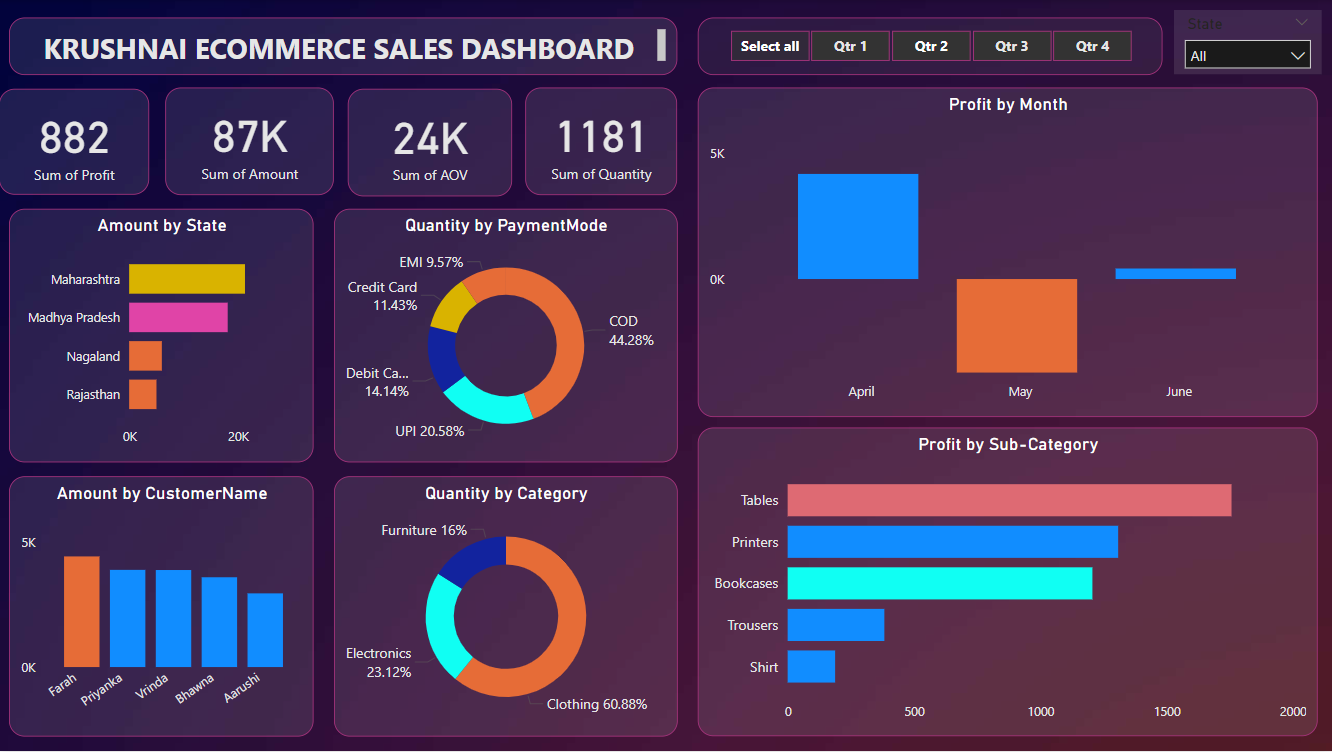

Layout of this report page (visuals, bound fields, positions):
{"tool":"powerbi","page":{"name":"Sales Dashboard","canvas":[1280,720],"ordinal":0},"visuals":[{"type":"textbox","box":[9.6,16.5,640.8,54.9],"z":0},{"type":"columnChart","title":"Profit by Month","fields":{"Category":["Orders.Order Date.Variation.Date Hierarchy.Month"],"Y":["Details.Profit"]},"box":[669.6,83.7,594.2,315.6],"z":1000},{"type":"barChart","title":"Profit by Sub-Category","fields":{"Category":["Details.Sub-Category"],"Y":["Details.Profit"]},"box":[669.6,410.3,594.2,296.4],"z":2000},{"type":"donutChart","title":"Quantity by Category","fields":{"Category":["Details.Category"],"Y":["Details.Quantity"]},"box":[321.1,456.9,329.3,249.7],"z":3000},{"type":"donutChart","title":"Quantity by PaymentMode","fields":{"Category":["Details.PaymentMode"],"Y":["Details.Quantity"]},"box":[321.1,200.3,329.3,242.9],"z":4000},{"type":"card","fields":{"Values":["Details.Amount"]},"box":[159.2,83.7,161.9,102.9],"z":5000},{"type":"card","fields":{"Values":["Details.Profit"]},"box":[0,85.1,144.1,101.5],"z":6000},{"type":"card","fields":{"Values":["Details.Quantity"]},"box":[505,83.7,145.5,102.9],"z":7000},{"type":"card","fields":{"Values":["Details.AOV"]},"box":[334.8,85.1,157.8,102.9],"z":8000},{"type":"barChart","title":"Amount by State","fields":{"Category":["Orders.State"],"Y":["Details.Amount"]},"box":[9.6,200.3,292.3,242.9],"z":9000},{"type":"columnChart","title":"Amount by CustomerName","fields":{"Category":["Orders.CustomerName"],"Y":["Details.Amount"]},"box":[9.6,456.9,292.3,249.7],"z":10000},{"type":"slicer","fields":{"Values":["Orders.Order Date.Variation.Date Hierarchy.Quarter"]},"box":[669.6,16.5,446,54.9],"z":11000},{"type":"slicer","fields":{"Values":["Orders.State"]},"box":[1126.6,9.6,141.3,61.7],"z":12000}]}

Visuals, with their boxes in screenshot pixels (x1, y1, x2, y2), scaled from the page's 1280x720 canvas onto the 1332x752 screenshot:
textbox: <bbox>10, 17, 677, 75</bbox>
"Profit by Month" columnChart: <bbox>697, 87, 1315, 417</bbox>
"Profit by Sub-Category" barChart: <bbox>697, 429, 1315, 738</bbox>
"Quantity by Category" donutChart: <bbox>334, 477, 677, 738</bbox>
"Quantity by PaymentMode" donutChart: <bbox>334, 209, 677, 463</bbox>
card - Details.Amount: <bbox>166, 87, 334, 195</bbox>
card - Details.Profit: <bbox>0, 89, 150, 195</bbox>
card - Details.Quantity: <bbox>526, 87, 677, 195</bbox>
card - Details.AOV: <bbox>348, 89, 513, 196</bbox>
"Amount by State" barChart: <bbox>10, 209, 314, 463</bbox>
"Amount by CustomerName" columnChart: <bbox>10, 477, 314, 738</bbox>
slicer - Orders.Order Date.Variation.Date Hierarchy.Quarter: <bbox>697, 17, 1161, 75</bbox>
slicer - Orders.State: <bbox>1172, 10, 1319, 74</bbox>
